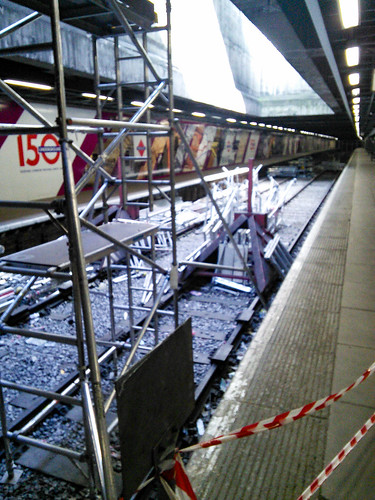train track: (270, 136, 350, 249)
trash: (99, 163, 311, 291)
